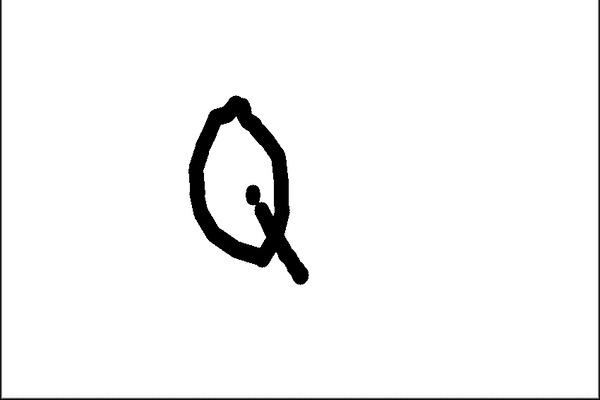Q: (169, 86, 311, 291)
